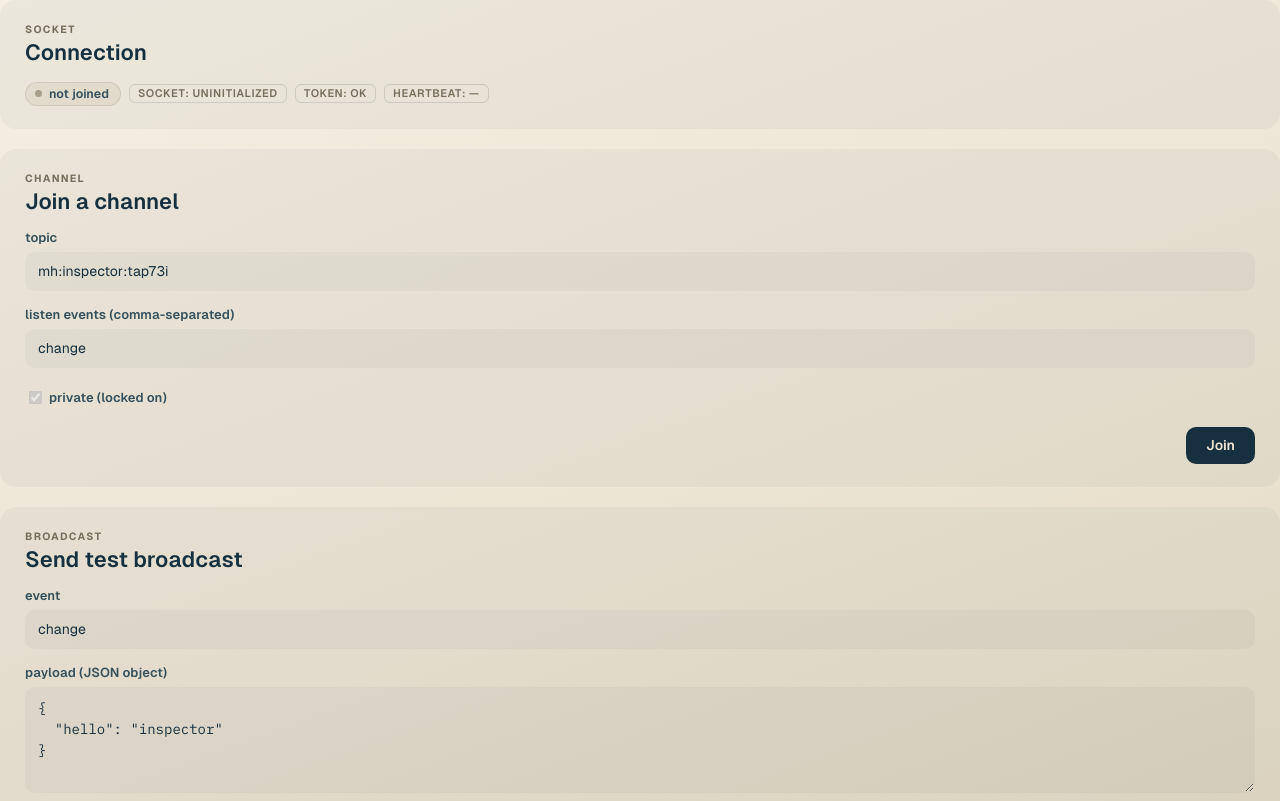
Test: RealtimeInspector › an unavailable channel also raises the unreachable banner
This screenshot has width=1280, height=801.
Expected: the text "token: ok" is shown, [295,84,376,103]
Click the button "Join" at coordinates (1221, 446), box [1186,427,1255,464]
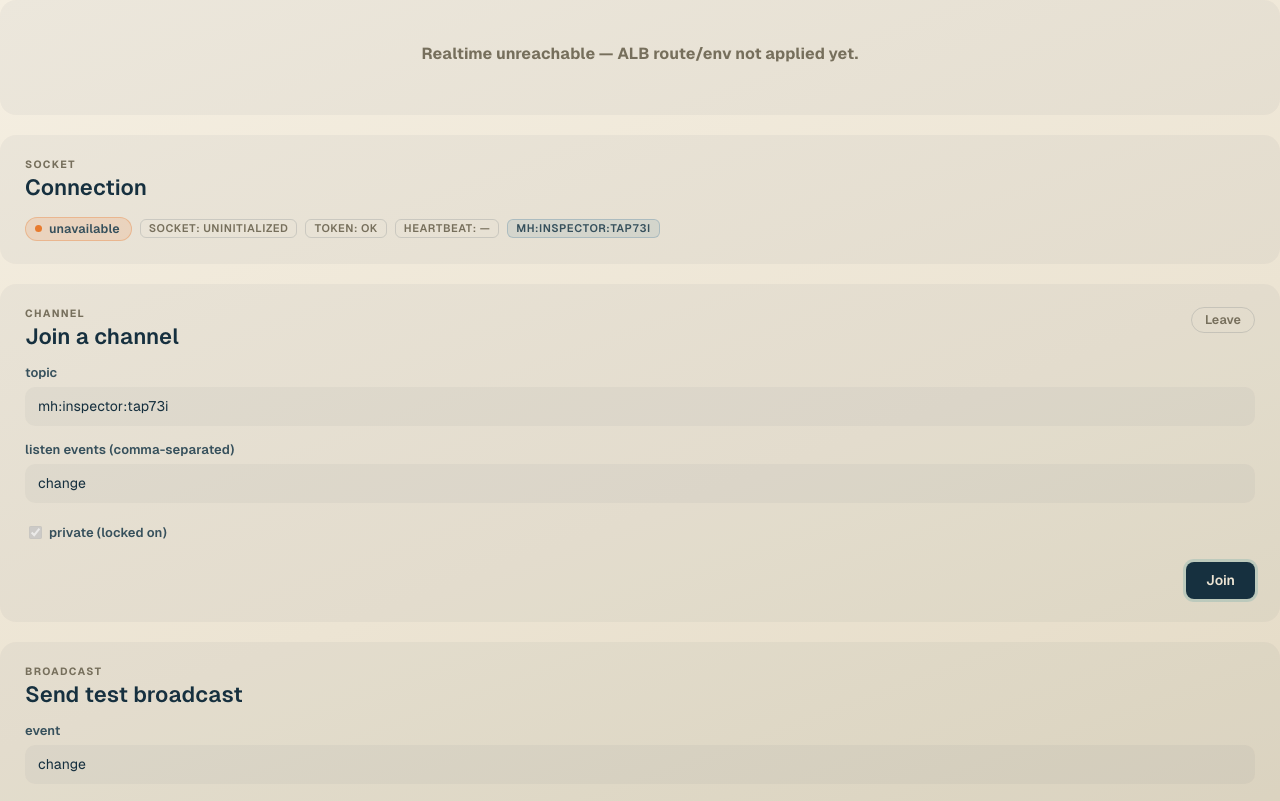
Result: the text "Realtime unreachable — ALB route/env not applied yet." is shown at [422,44,858,63]
Result: the element with test id "rt-connection-status" reads "unavailable" at [49,221,120,236]
